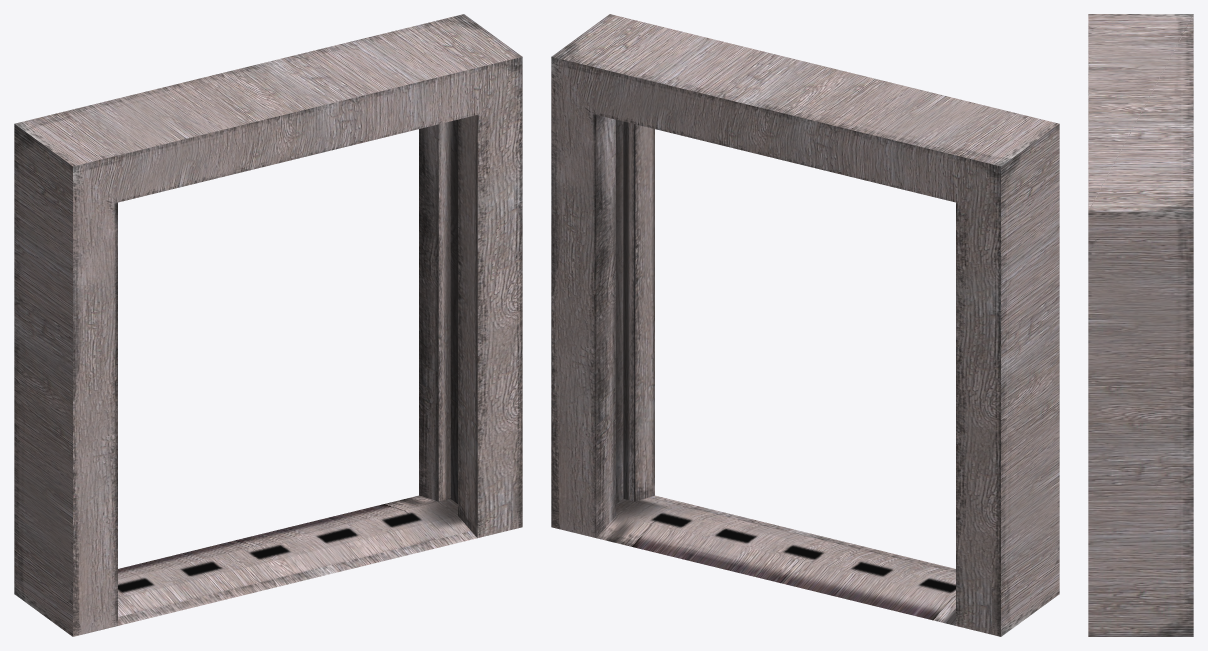
Rendered from Doorframe.FBX.
3 views of the same model, side by side, from view 1: azimuth 30°, elevation 25°; view 2: azimuth 150°, elevation 25°; view 3: azimuth 270°, elevation 25° (orthographic). The views are drawn at different scales.
Visible parts, largest first — view 1: Doorframe; view 2: Doorframe; view 3: Doorframe.
Boxes of the visible parts, x1,y1,x2,y2 form: Doorframe: (14, 14, 522, 636); Doorframe: (551, 14, 1059, 636); Doorframe: (1088, 14, 1193, 636).
Bounding box in the file's own units: 400 × 400 × 90.
